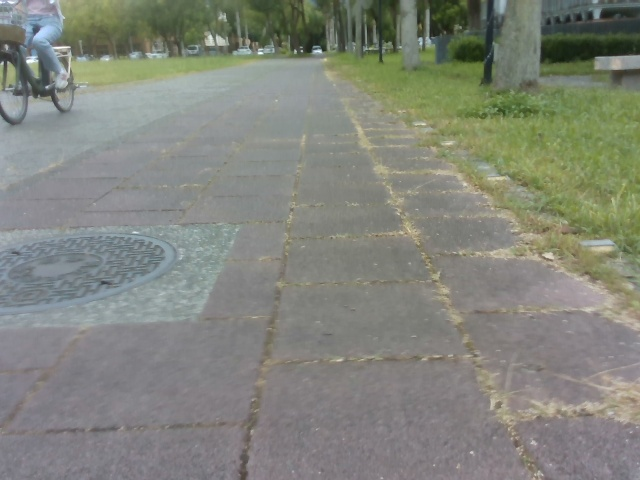grass: (318, 43, 639, 286), (55, 0, 639, 89), (73, 53, 270, 86)
road: (0, 57, 639, 479)
